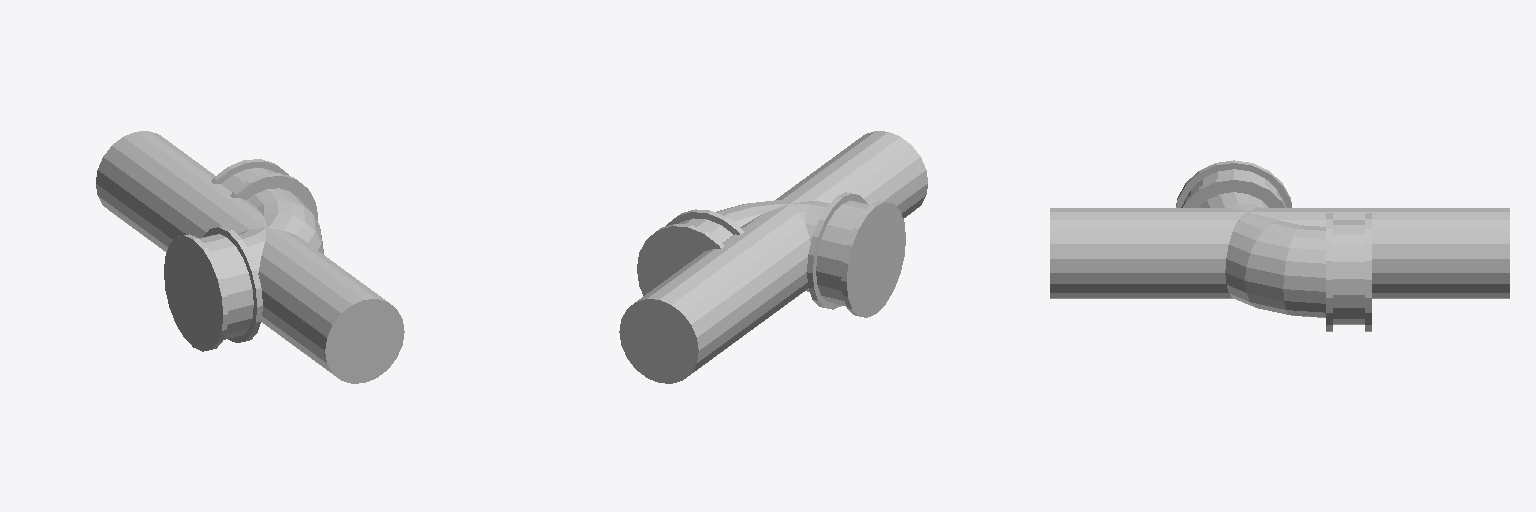
Rendered from pipe_straight.obj.
The picture shows the model from 3 angles: view 1: azimuth 30°, elevation 25°; view 2: azimuth 150°, elevation 25°; view 3: azimuth 270°, elevation 25°; orthographic projection.
Visible parts, largest first — view 1: pipe_straight, pipe_curve; view 2: pipe_straight, pipe_curve; view 3: pipe_straight, pipe_curve.
Boxes of the visible parts, box(x1,y1,x2,y2) form: pipe_straight: box(96, 131, 404, 383); pipe_curve: box(164, 159, 323, 351); pipe_straight: box(619, 131, 927, 383); pipe_curve: box(637, 192, 905, 317); pipe_straight: box(1050, 208, 1509, 298); pipe_curve: box(1176, 160, 1371, 331).
Size of the model in its own units: 42.96 by 25.93 by 100.